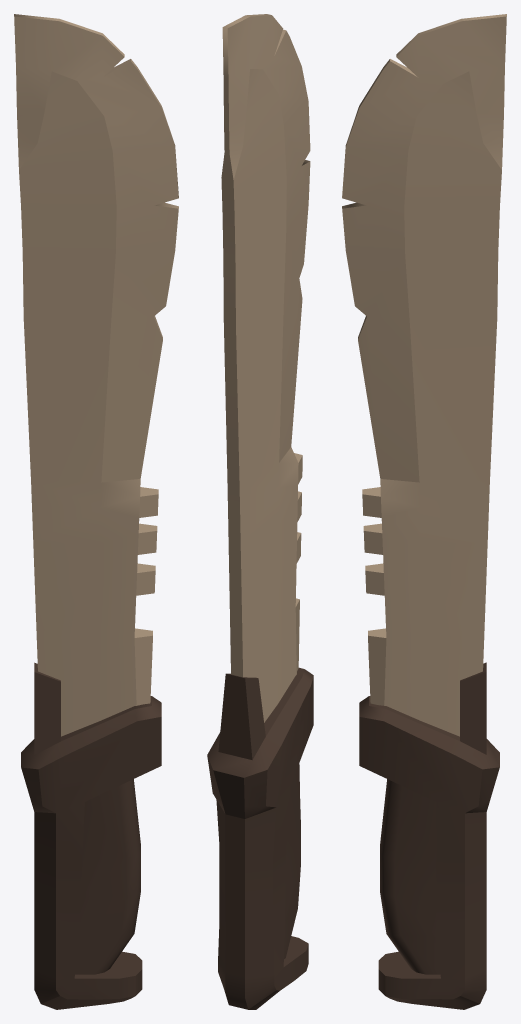
File: Undying_Props_Knife_A.fbx
3 renders of one model, left to right at view 1: azimuth 90°, elevation 25°; view 2: azimuth 150°, elevation 25°; view 3: azimuth 270°, elevation 25°, orthographic.
Visible parts, largest first — view 1: Undying_Props_Knife_A; view 2: Undying_Props_Knife_A; view 3: Undying_Props_Knife_A.
Part boxes in pixels (x1,y1,x2,y2): Undying_Props_Knife_A: (14,14,178,1009); Undying_Props_Knife_A: (207,14,313,1009); Undying_Props_Knife_A: (342,14,506,1009).
Bounding box in the file's own units: 3.14 × 49.48 × 7.46.
